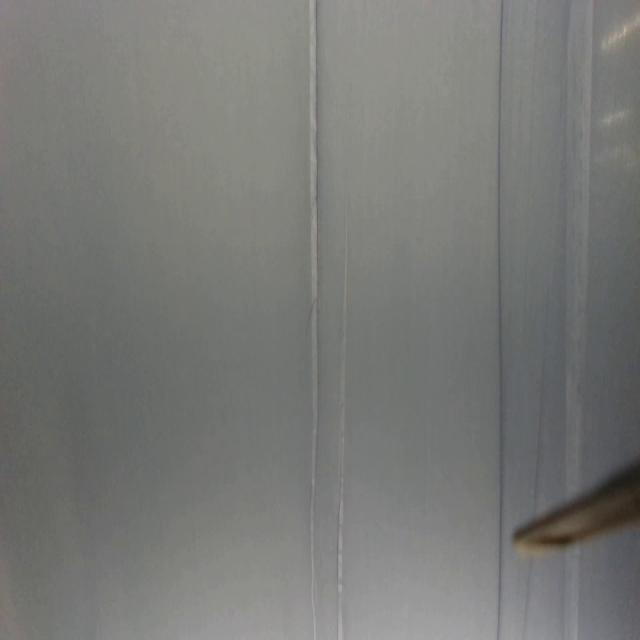crease: (308, 0, 321, 640), (494, 0, 505, 637), (336, 203, 352, 638), (532, 322, 549, 517)
